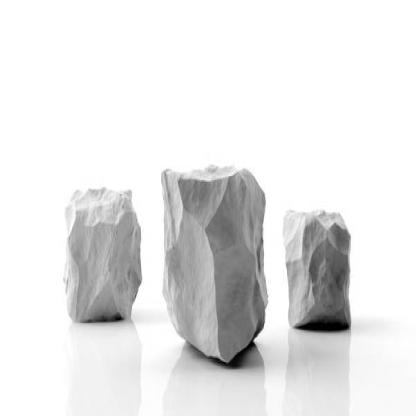Metamorphic_Marble: (154, 151, 270, 372), (38, 160, 146, 323), (275, 183, 352, 341)
